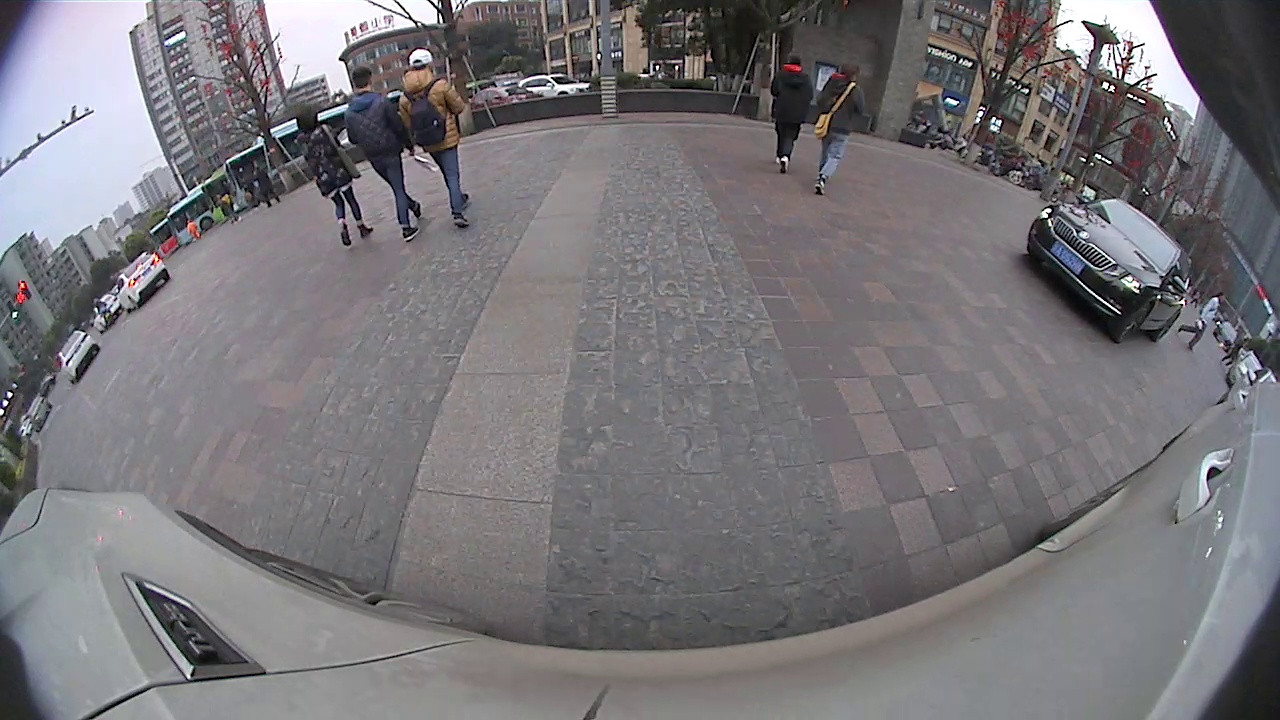car: (1025, 195, 1195, 346), (113, 249, 170, 314), (56, 328, 101, 383), (518, 72, 594, 97)
front: (1114, 295, 1157, 346)
person: (401, 47, 452, 232), (350, 65, 387, 222), (296, 108, 336, 248), (825, 60, 863, 198), (775, 52, 806, 173), (1203, 293, 1223, 348)
